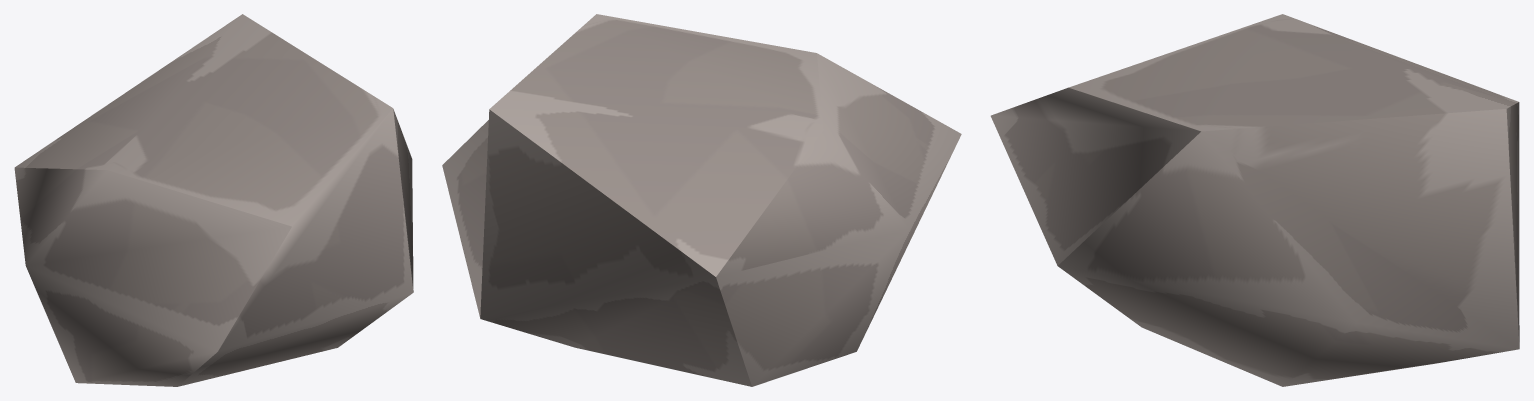
The model's file is Rock1.fbx.
The picture shows the model from 3 angles, left to right: view 1: azimuth 30°, elevation 25°; view 2: azimuth 150°, elevation 25°; view 3: azimuth 270°, elevation 25°; orthographic projection. The views are drawn at different scales.
Visible parts, largest first — view 1: Rock1; view 2: Rock1; view 3: Rock1.
Part boxes in pixels (x1,y1,x2,y2): Rock1: [14, 14, 413, 386]; Rock1: [442, 14, 961, 386]; Rock1: [990, 14, 1519, 386].
Bounding box in the file's own units: 206 × 112 × 188.
